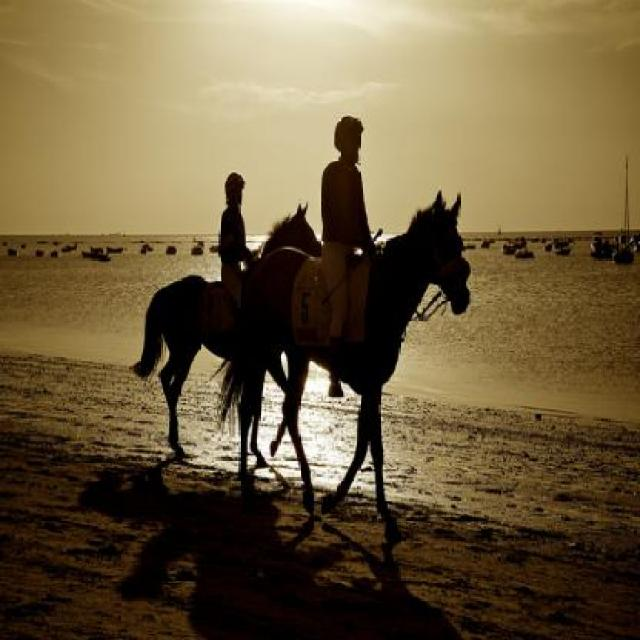ship: (610, 155, 633, 259), (500, 233, 528, 252), (80, 242, 102, 256), (552, 238, 572, 252), (106, 242, 123, 252), (478, 236, 488, 247)
